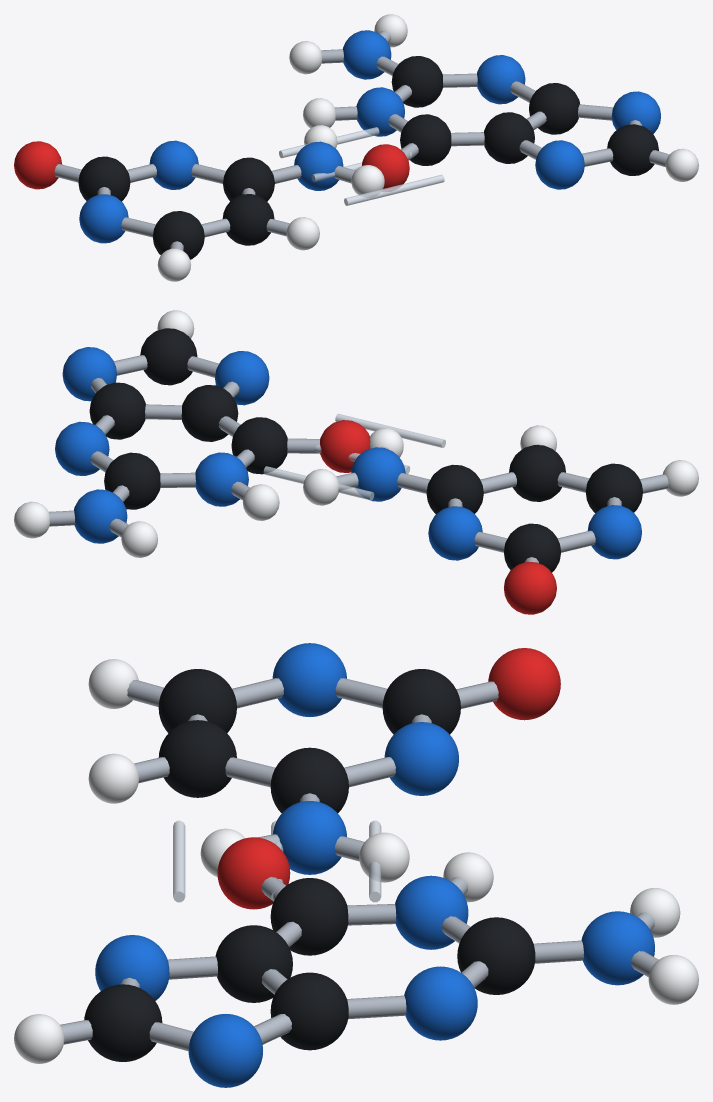
The model's file is cift_GC.glb.
3 views of the same model, one above another, from view 1: azimuth 30°, elevation 25°; view 2: azimuth 150°, elevation 25°; view 3: azimuth 270°, elevation 25° (orthographic). The views are drawn at different scales.
Visible parts, largest first — view 1: Baza_G, Baza_C, Cift_GC; view 2: Baza_G, Baza_C, Cift_GC; view 3: Baza_G, Baza_C, Cift_GC.
Part boxes in pixels (x1=…): Baza_G: x1=289, y1=14, x2=698, y2=191; Baza_C: x1=14, y1=125, x2=384, y2=281; Cift_GC: x1=279, y1=127, x2=444, y2=205; Baza_G: x1=14, y1=310, x2=370, y2=557; Baza_C: x1=303, y1=425, x2=698, y2=614; Cift_GC: x1=263, y1=413, x2=445, y2=500; Baza_G: x1=14, y1=837, x2=698, y2=1087; Baza_C: x1=88, y1=643, x2=560, y2=882; Cift_GC: x1=173, y1=820, x2=381, y2=902.
Size of the model in its own units: 3.57 by 0.294 by 2.57.
